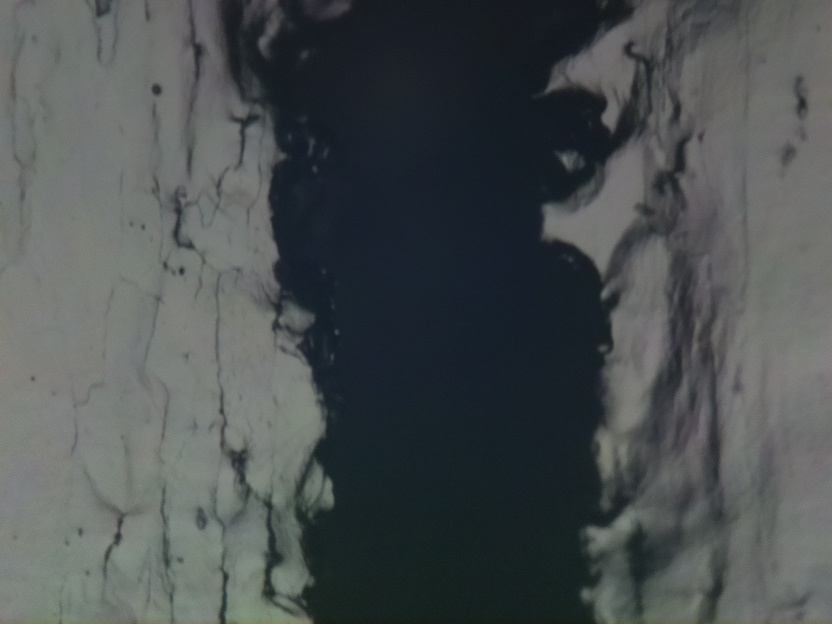crack: (223, 1, 640, 624), (261, 493, 285, 605), (219, 546, 234, 624)
